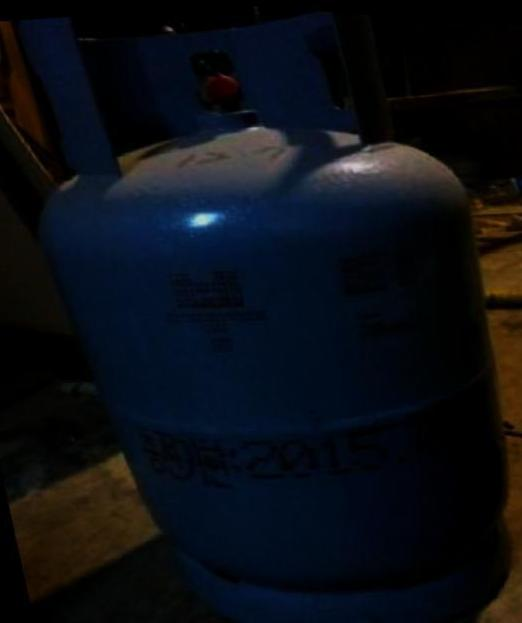cylinder: (1, 1, 522, 623)
